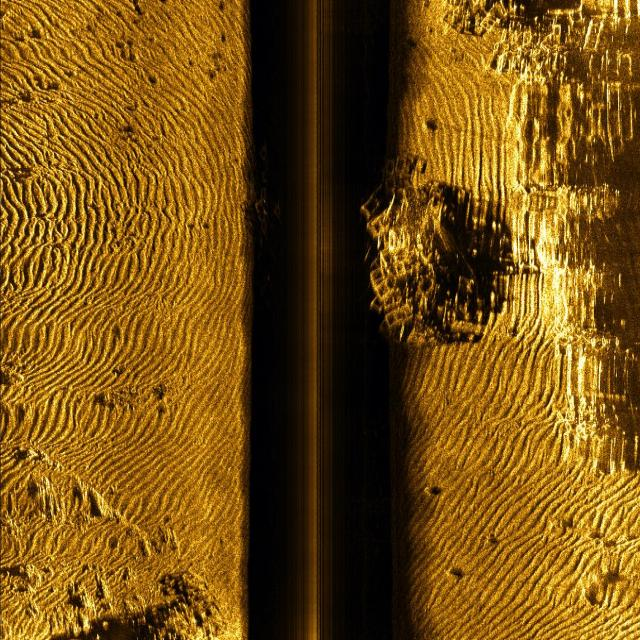artificial reef: (357, 148, 468, 350), (439, 0, 579, 87), (253, 146, 281, 253)
